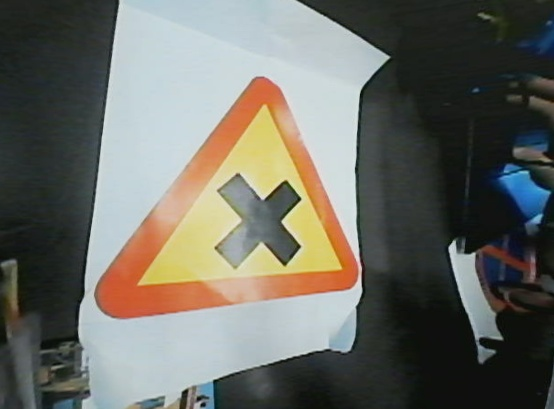junction: (75, 60, 367, 313)
